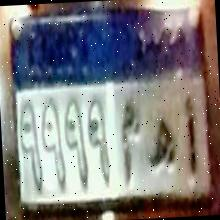9: (61, 97, 90, 198), (38, 97, 66, 196), (17, 94, 42, 195), (86, 93, 112, 186)
alif: (178, 89, 201, 186)
haa: (144, 104, 176, 179)
meem: (119, 99, 144, 181)
